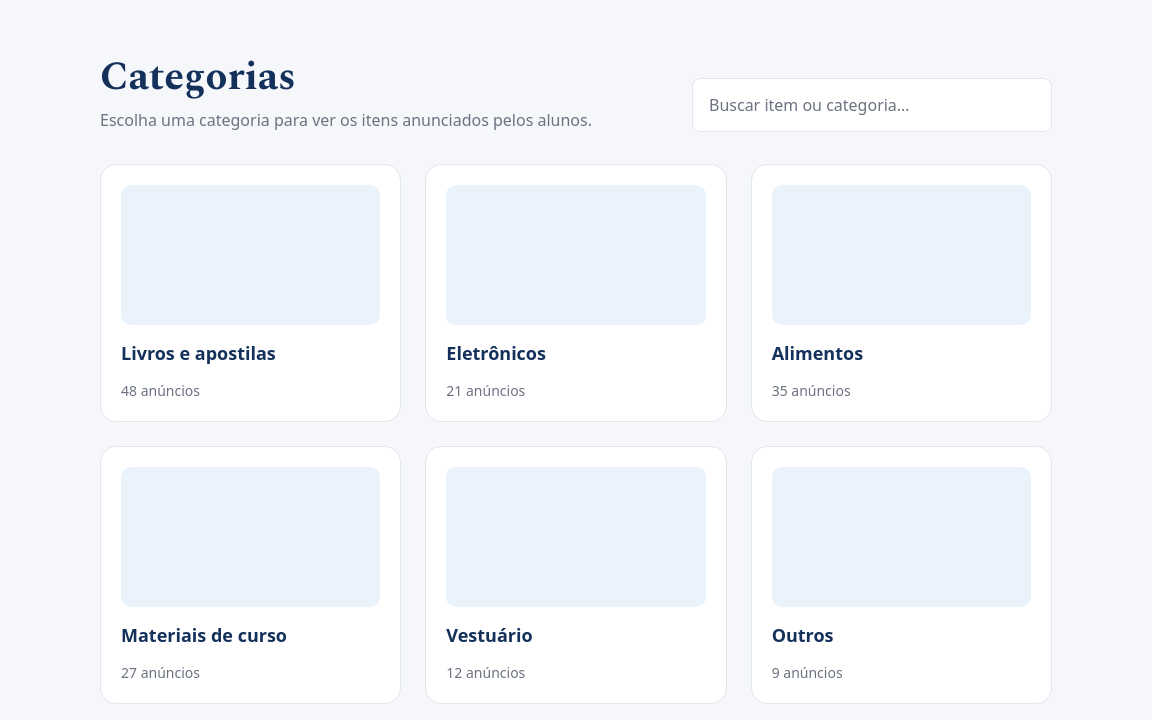
Scenario: CategoriesPage › filtra pela busca e guarda o texto na URL (?q=)
The width and height of the screenshot is (1152, 720).
Expected: the link "Livros e apostilas 48 anúncios" is shown, [100, 164, 401, 422]
In the search field labelled "Buscar item ou categoria": (872, 105) [692, 78, 1052, 132], type "eletro"
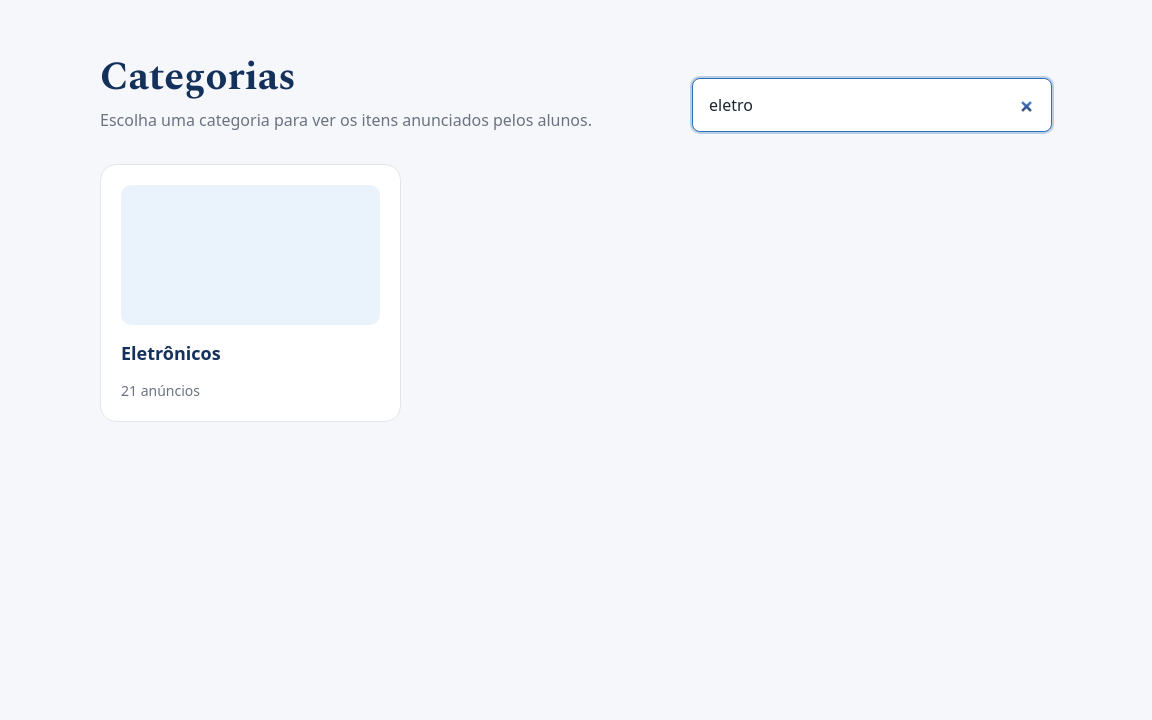
Now the number of links is 1, box [100, 164, 401, 422]
